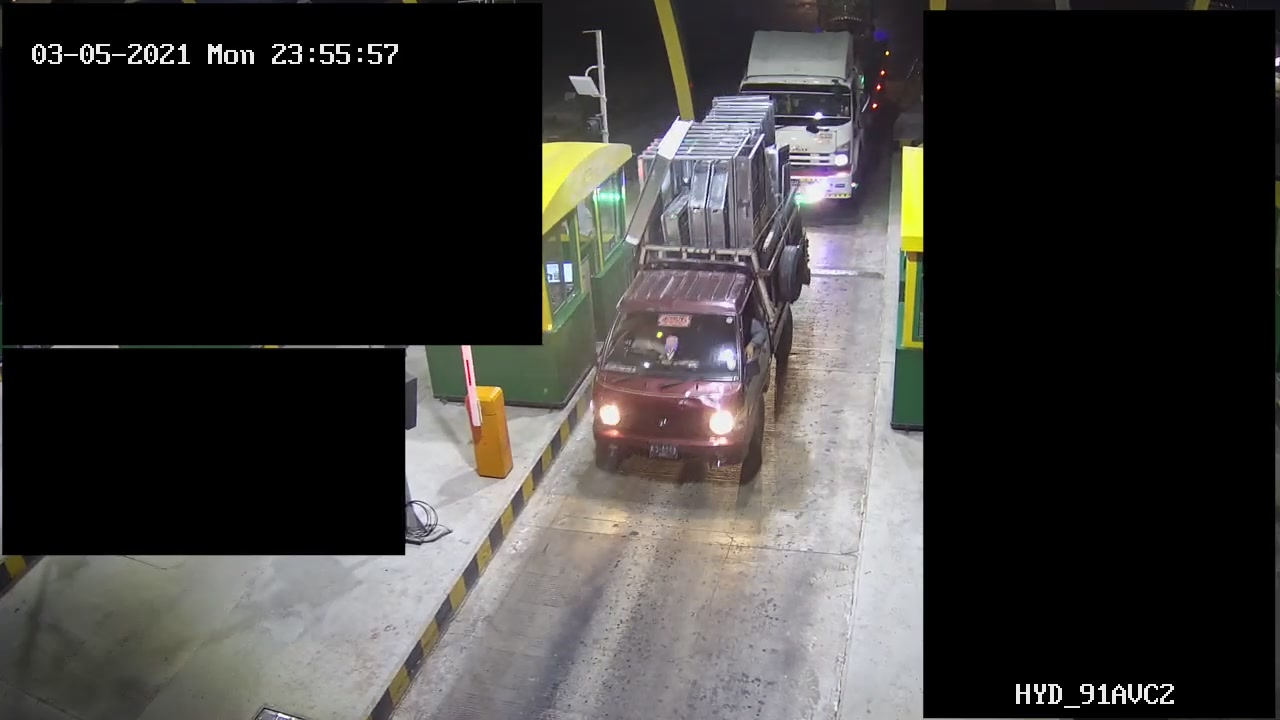F1: (583, 90, 814, 485)
